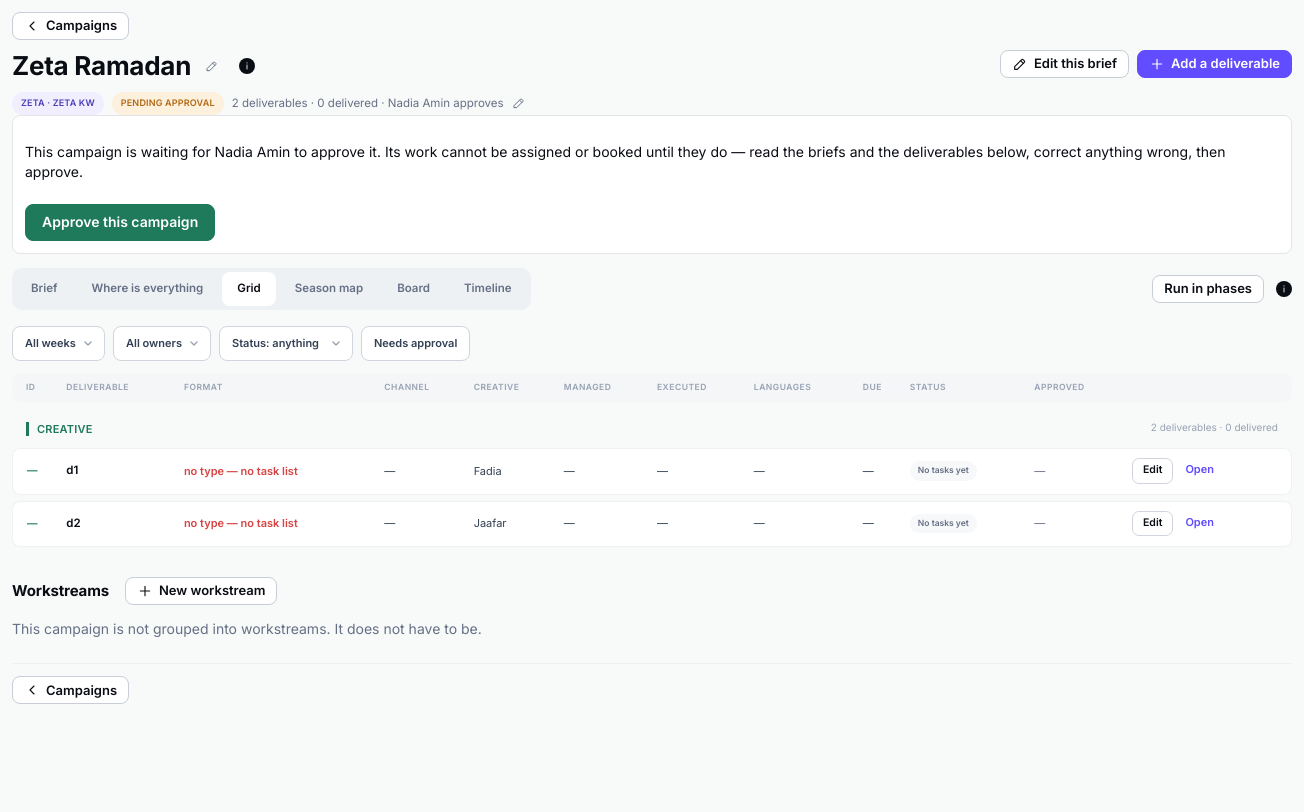
CampaignPage — the views, and the grid that took over the department tabs (CG-01, I57.4) › filters by owner, and says so plainly when the filters match nothing
Select "Jaafar" in the dropdown with test id "campaign-grid-filter-owner": (162, 344) [113,326,211,361]
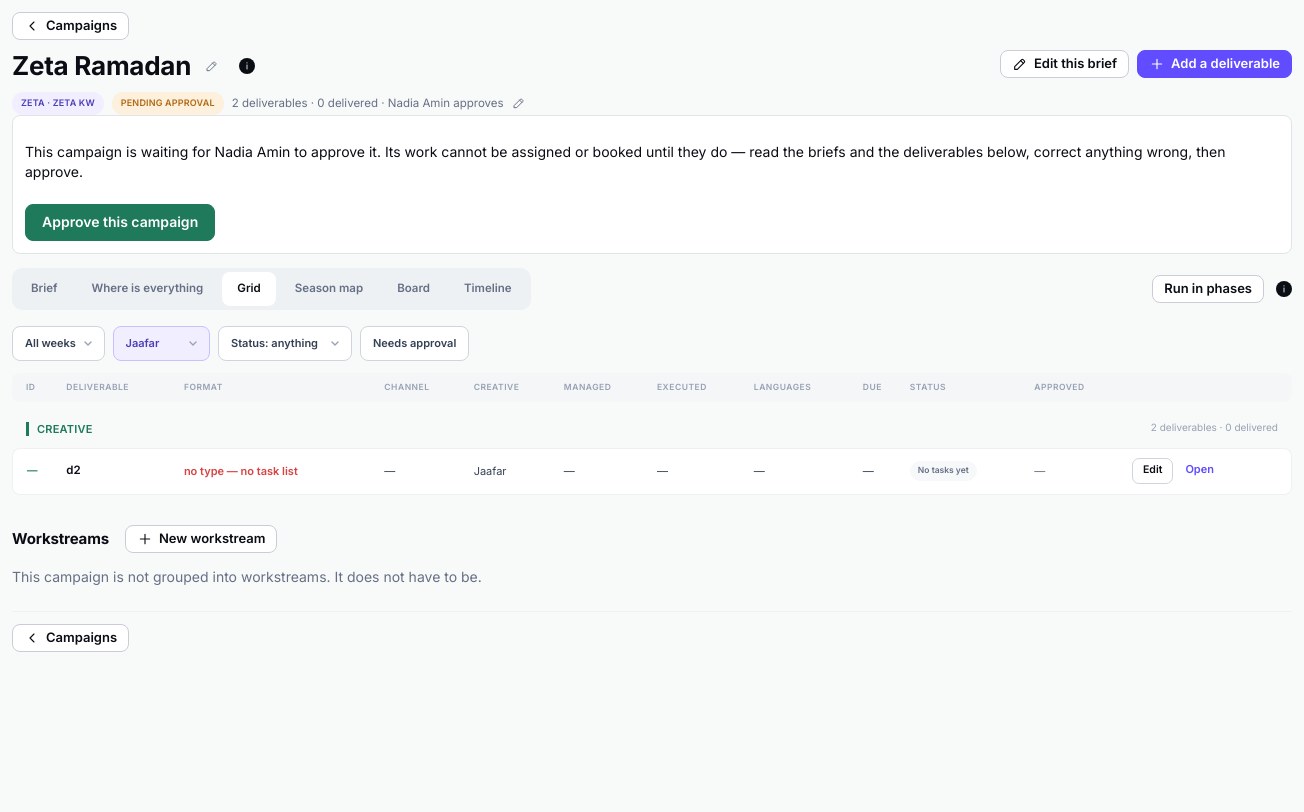
Expected: the row with test id "campaign-deliverable-d2" is shown, [12,448,1292,494]
Expected: the row with test id "campaign-deliverable-d1" is gone
Select "In review" in the dropdown with test id "campaign-grid-filter-status": (285, 344) [218,326,352,361]
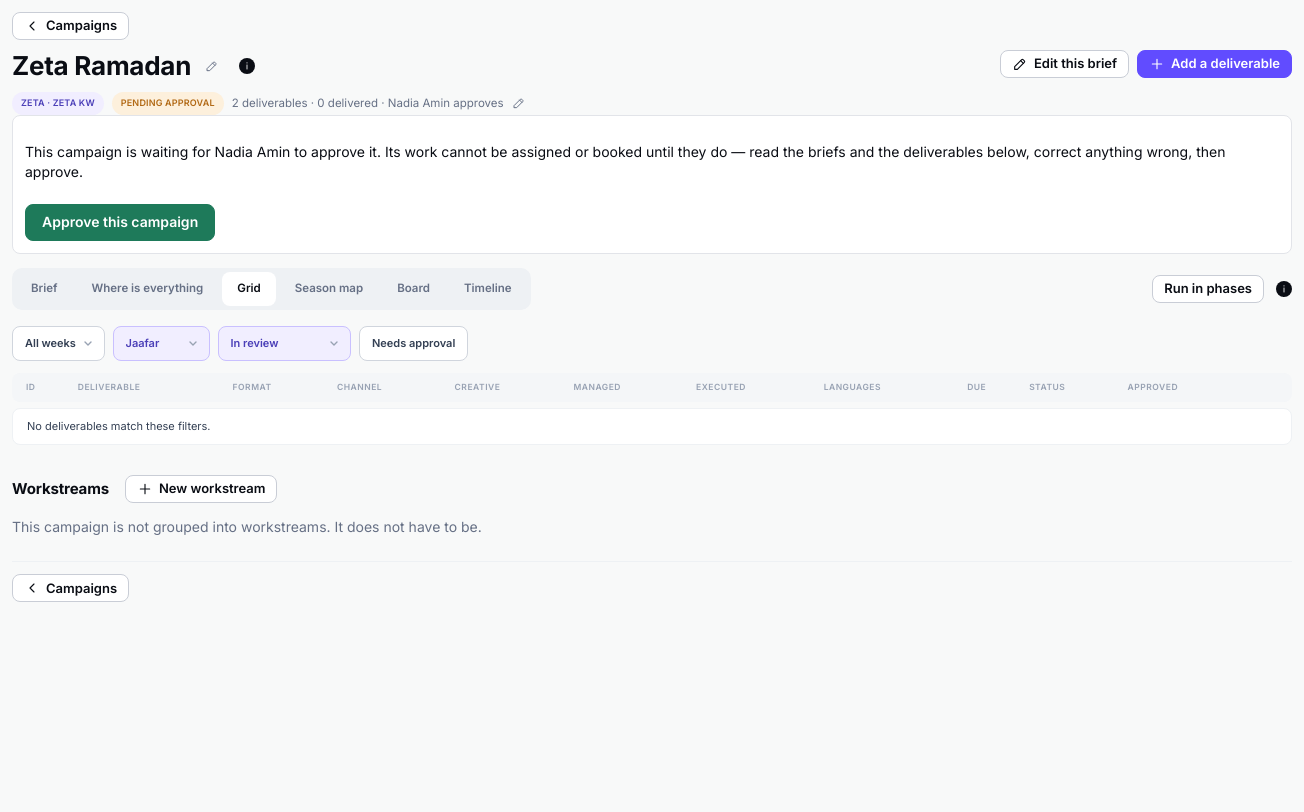
Expected: the cell with test id "campaign-grid-no-matches" is shown, [12,408,1292,445]
